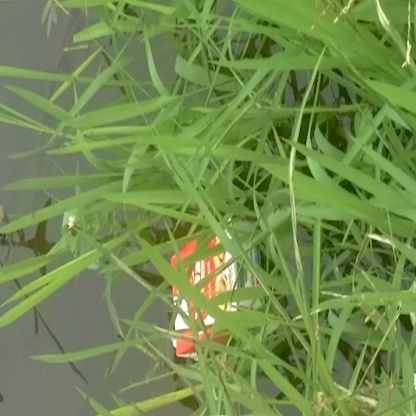milk-box: (160, 232, 274, 358)
